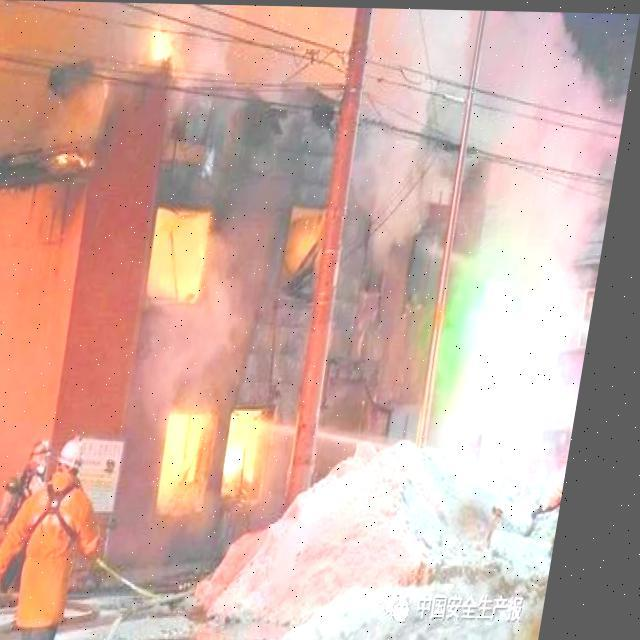Fire: (169, 404, 285, 508), (152, 203, 218, 302), (49, 130, 102, 178), (144, 21, 179, 78)
